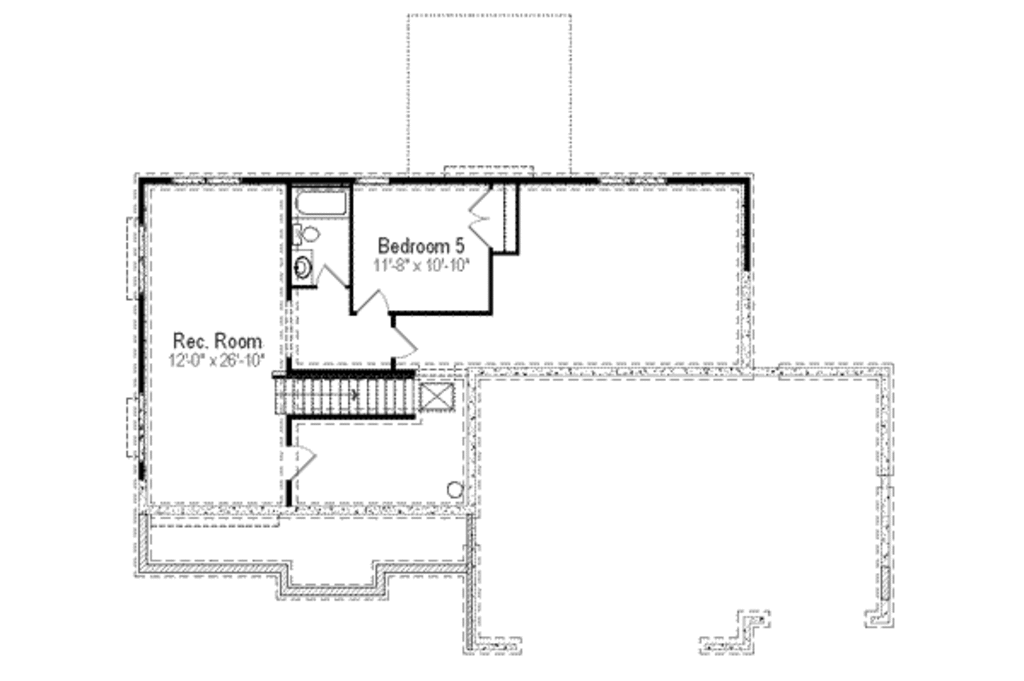door: (460, 181, 504, 251), (269, 435, 324, 486), (384, 321, 425, 368), (353, 288, 391, 318), (314, 262, 350, 289)
large_sink: (285, 219, 326, 248)
small_sink: (291, 251, 315, 286)
stairs: (270, 366, 426, 427)
tub: (291, 190, 354, 221)
